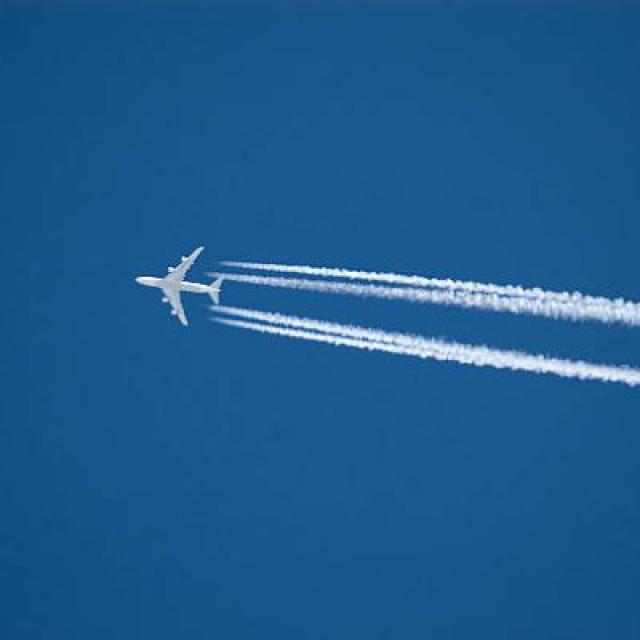Ct: (200, 218, 640, 464)
